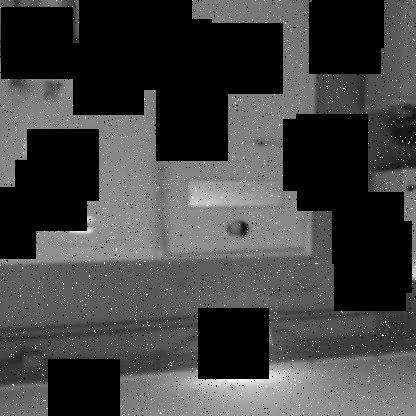Porte: (155, 1, 323, 261)
